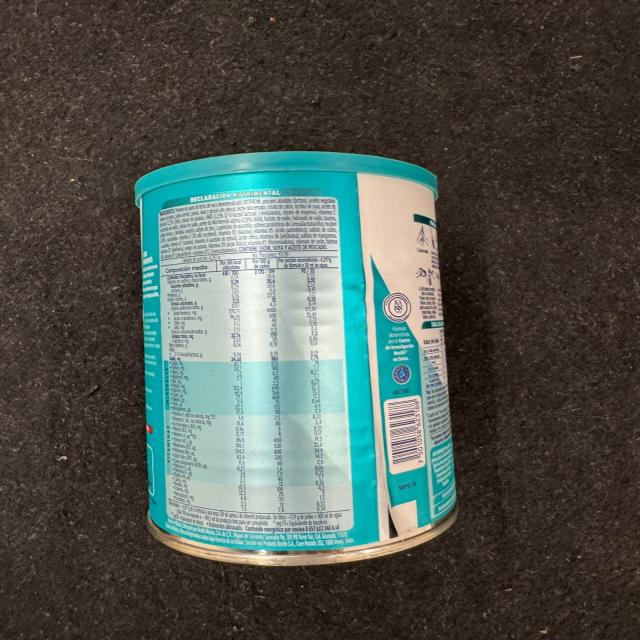NAN 1 OPTIPRO Formula Infantil 12x400gMX: (133, 148, 466, 568)
